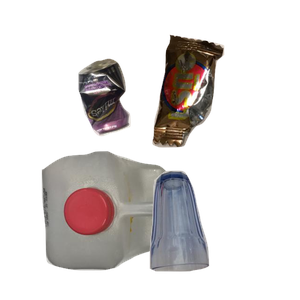glass: (147, 168, 300, 300)
metal: (75, 56, 198, 185)
plastic: (39, 149, 203, 300)
trash: (150, 32, 300, 172)
